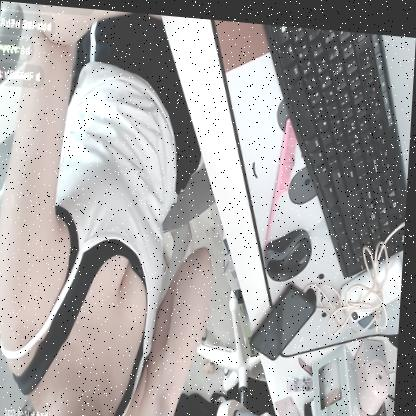streamer: (0, 1, 229, 416)
